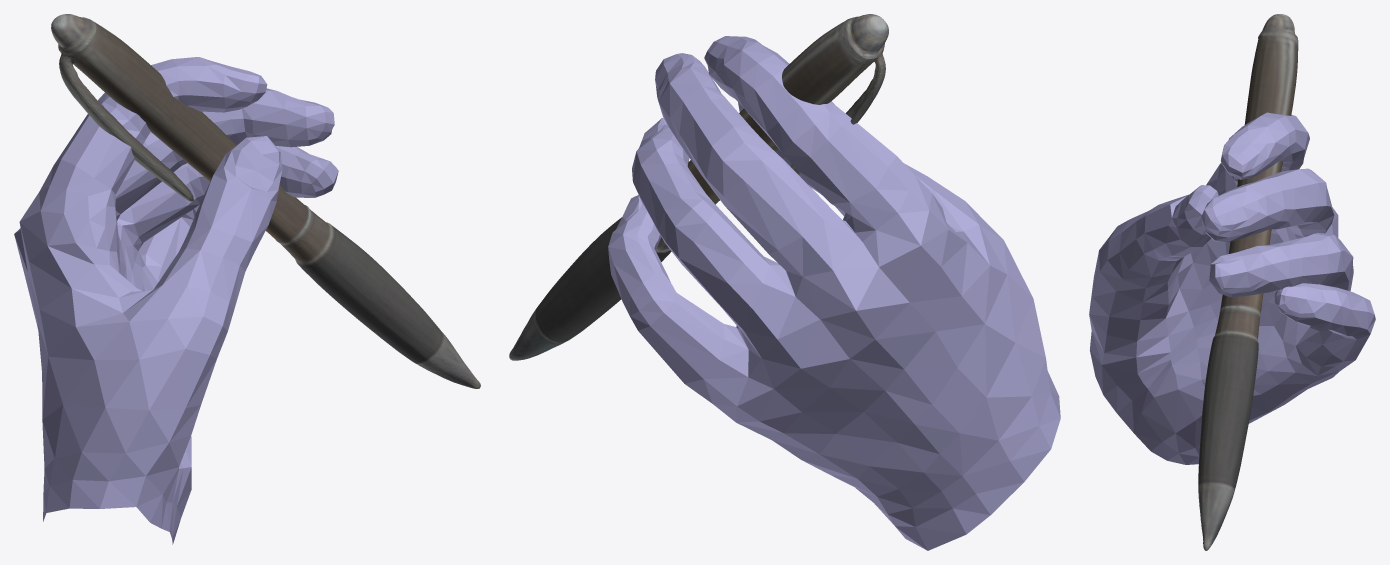
The model's file is frame_0016_source_000016_hand_object.glb.
The picture shows the model from 3 angles, left to right: view 1: azimuth 30°, elevation 25°; view 2: azimuth 150°, elevation 25°; view 3: azimuth 270°, elevation 25°; orthographic projection. The views are drawn at different scales.
Visible parts, largest first — view 1: world; view 2: world; view 3: world.
Part boxes in pixels (box(x1,y1,x2,y2)): world: box(14, 14, 480, 544); world: box(509, 14, 1060, 550); world: box(1089, 14, 1375, 550).
Bounding box in the file's own units: 0.158 × 0.1656 × 0.0969.
